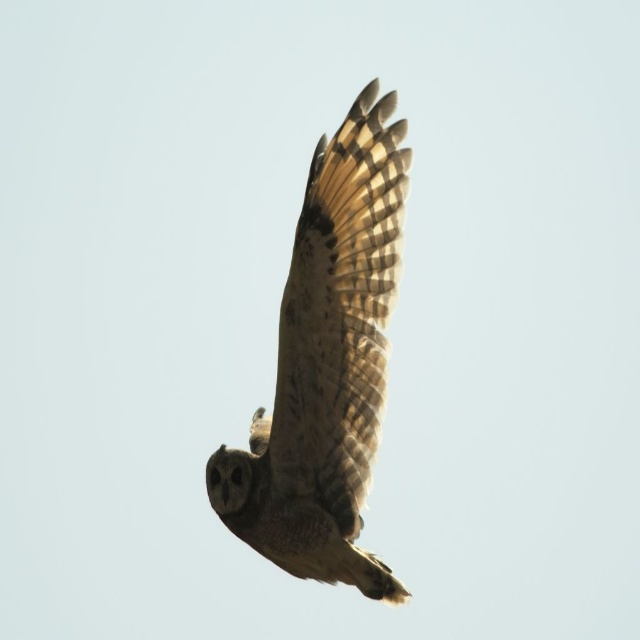Eagle: (202, 73, 412, 611)
